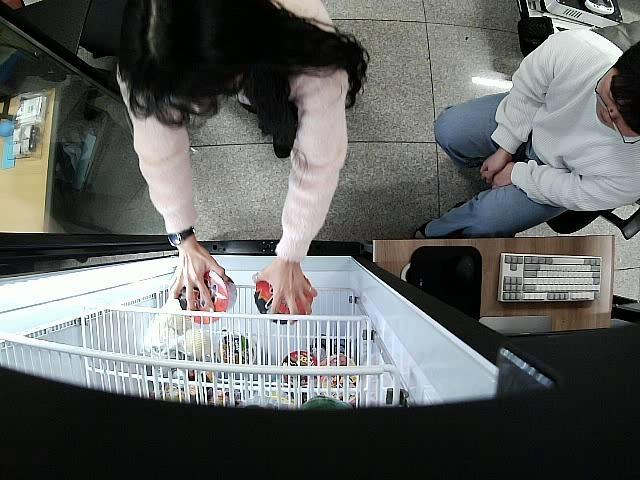01_ShinRamen_L: (177, 272, 239, 326), (255, 281, 314, 324)
